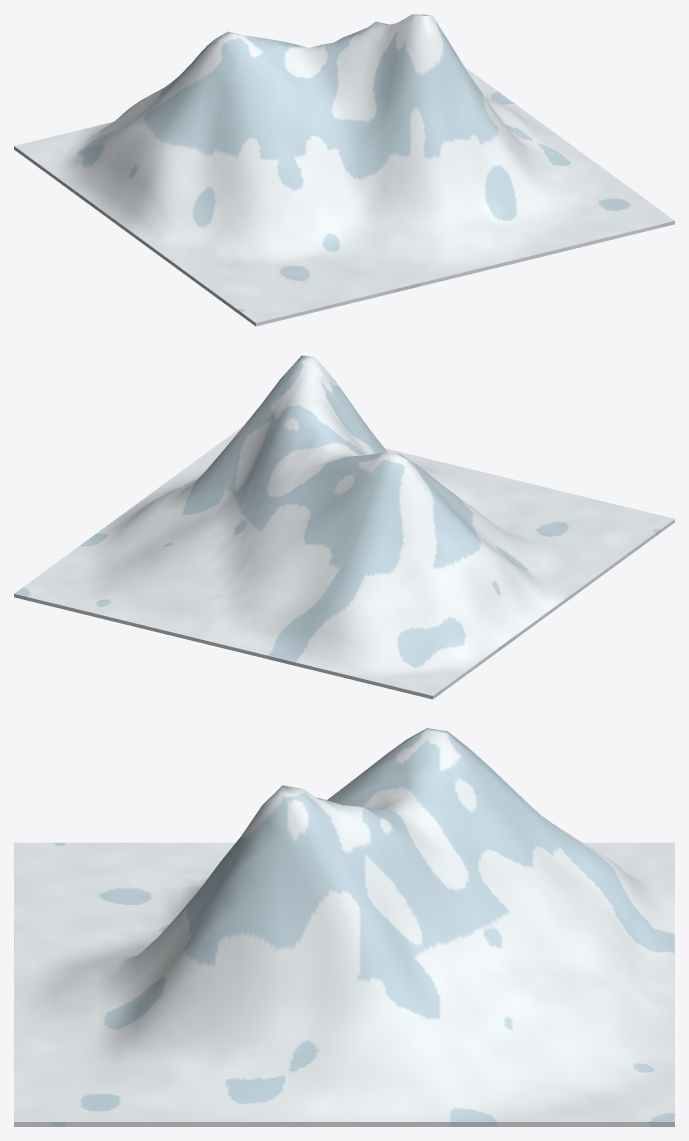
The model's file is Snow_Mountains_02.obj.
3 views of the same model, one above another, from view 1: azimuth 30°, elevation 25°; view 2: azimuth 150°, elevation 25°; view 3: azimuth 270°, elevation 25° (orthographic). The views are drawn at different scales.
Bounding box in the file's own units: 10 × 3.95 × 10.
Materials: 1 (1 with a texture image).
